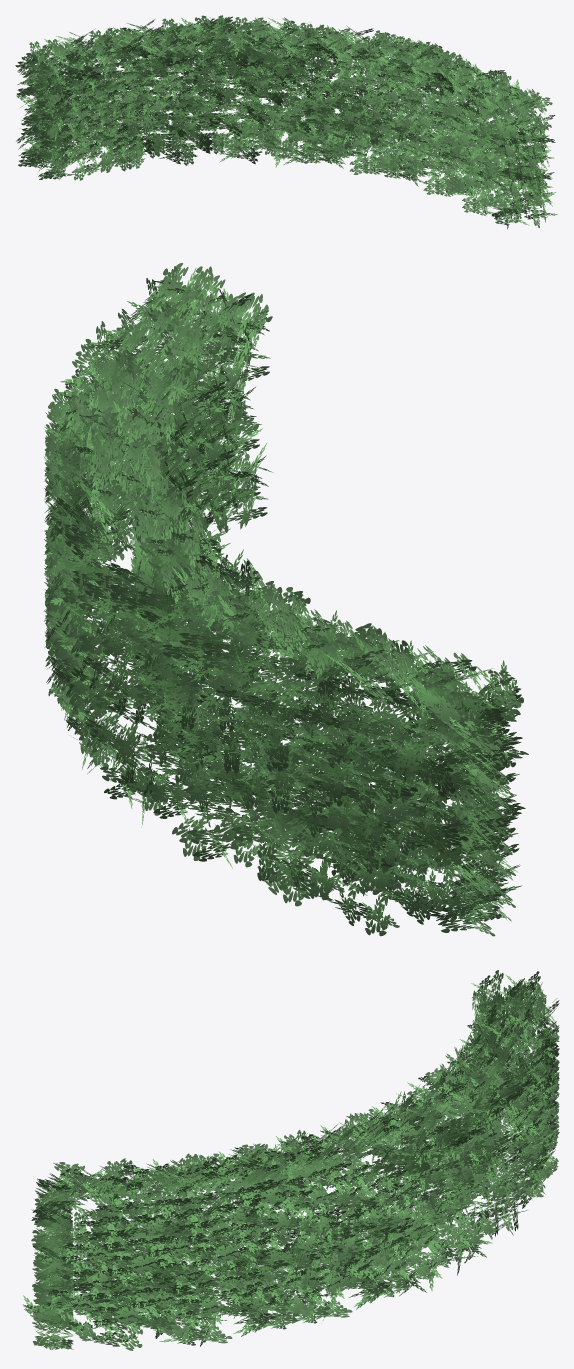
The model's file is Prop_Hedge_Bent_01.fbx.
The picture shows the model from 3 angles, top to bottom: view 1: azimuth 30°, elevation 25°; view 2: azimuth 150°, elevation 25°; view 3: azimuth 270°, elevation 25°; orthographic projection. The views are drawn at different scales.
Parts seen in each view (by area): view 1: Prop_Hedge_Bent_01; view 2: Prop_Hedge_Bent_01; view 3: Prop_Hedge_Bent_01.
Boxes of the visible parts, box(x1,y1,x2,y2) form: Prop_Hedge_Bent_01: box(15, 15, 557, 229); Prop_Hedge_Bent_01: box(44, 263, 528, 936); Prop_Hedge_Bent_01: box(23, 970, 559, 1350).
Bounding box in the file's own units: 13.26 × 4.72 × 13.25.
